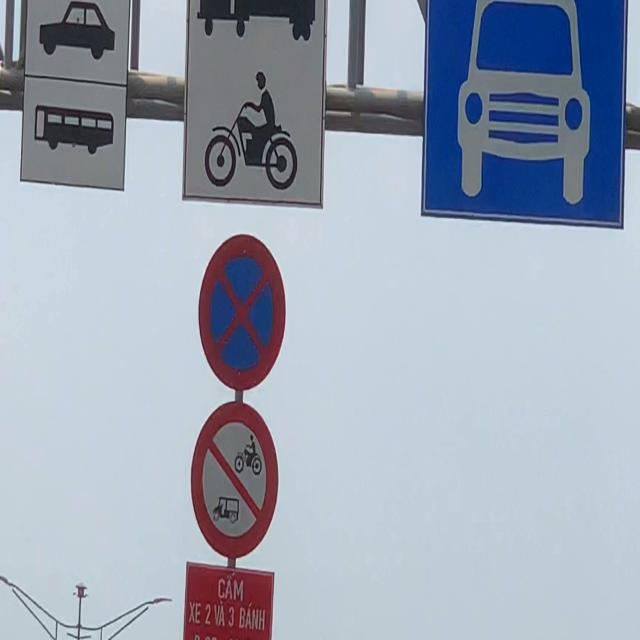Cam con lai: (190, 403, 278, 561)
Cam dung va do: (194, 228, 289, 398)
